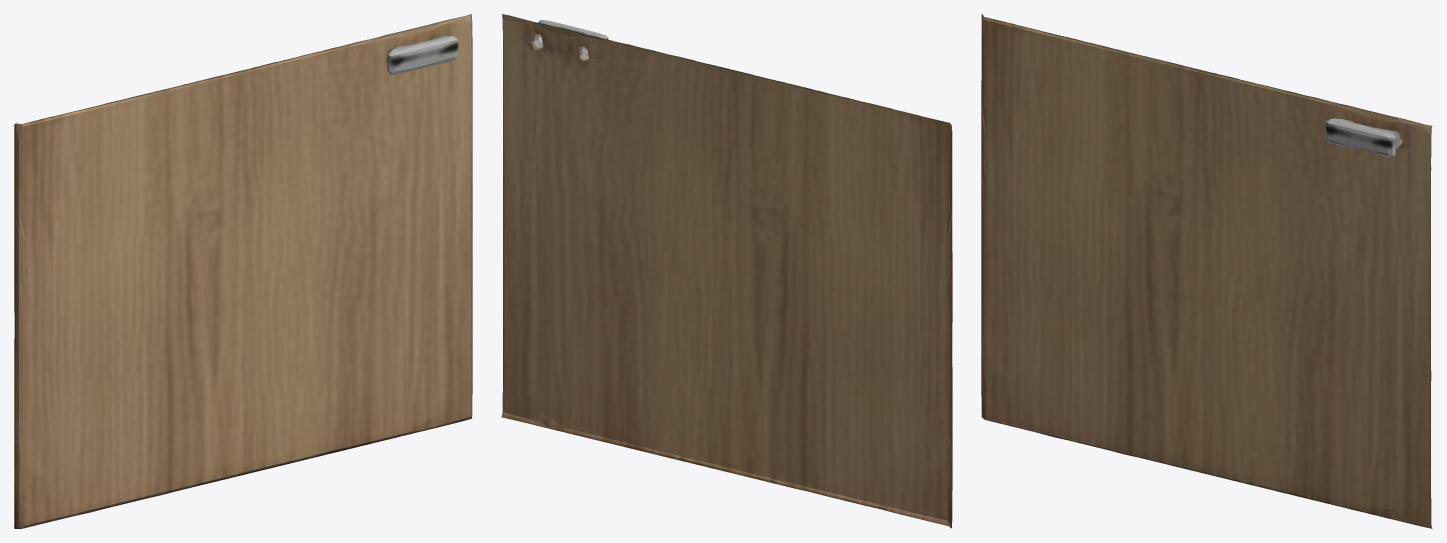
The model's file is door_left.glb.
3 views of the same model, side by side, from view 1: azimuth 30°, elevation 25°; view 2: azimuth 150°, elevation 25°; view 3: azimuth 330°, elevation 25° (orthographic).
Parts seen in each view (by area): view 1: source_surface_0; view 2: source_surface_0; view 3: source_surface_0.
Part boxes in pixels (x1=…): source_surface_0: x1=14, y1=14, x2=472, y2=528; source_surface_0: x1=501, y1=14, x2=952, y2=528; source_surface_0: x1=981, y1=14, x2=1432, y2=528.
Size of the model in its own units: 0.7424 by 0.6321 by 0.0468.
Materials: 1 (1 with a texture image).
